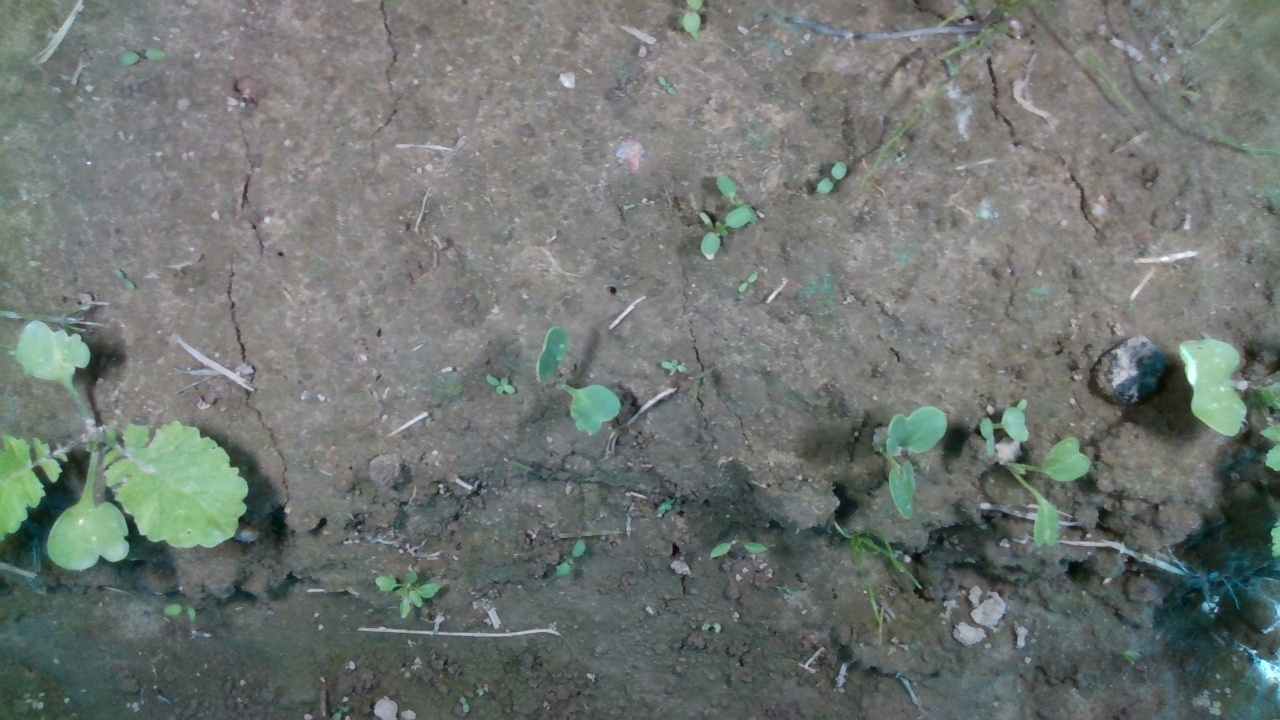weed: (814, 157, 867, 200), (707, 535, 771, 567), (474, 370, 519, 399), (651, 354, 697, 382), (560, 536, 583, 578), (652, 72, 684, 100), (734, 264, 756, 298)
